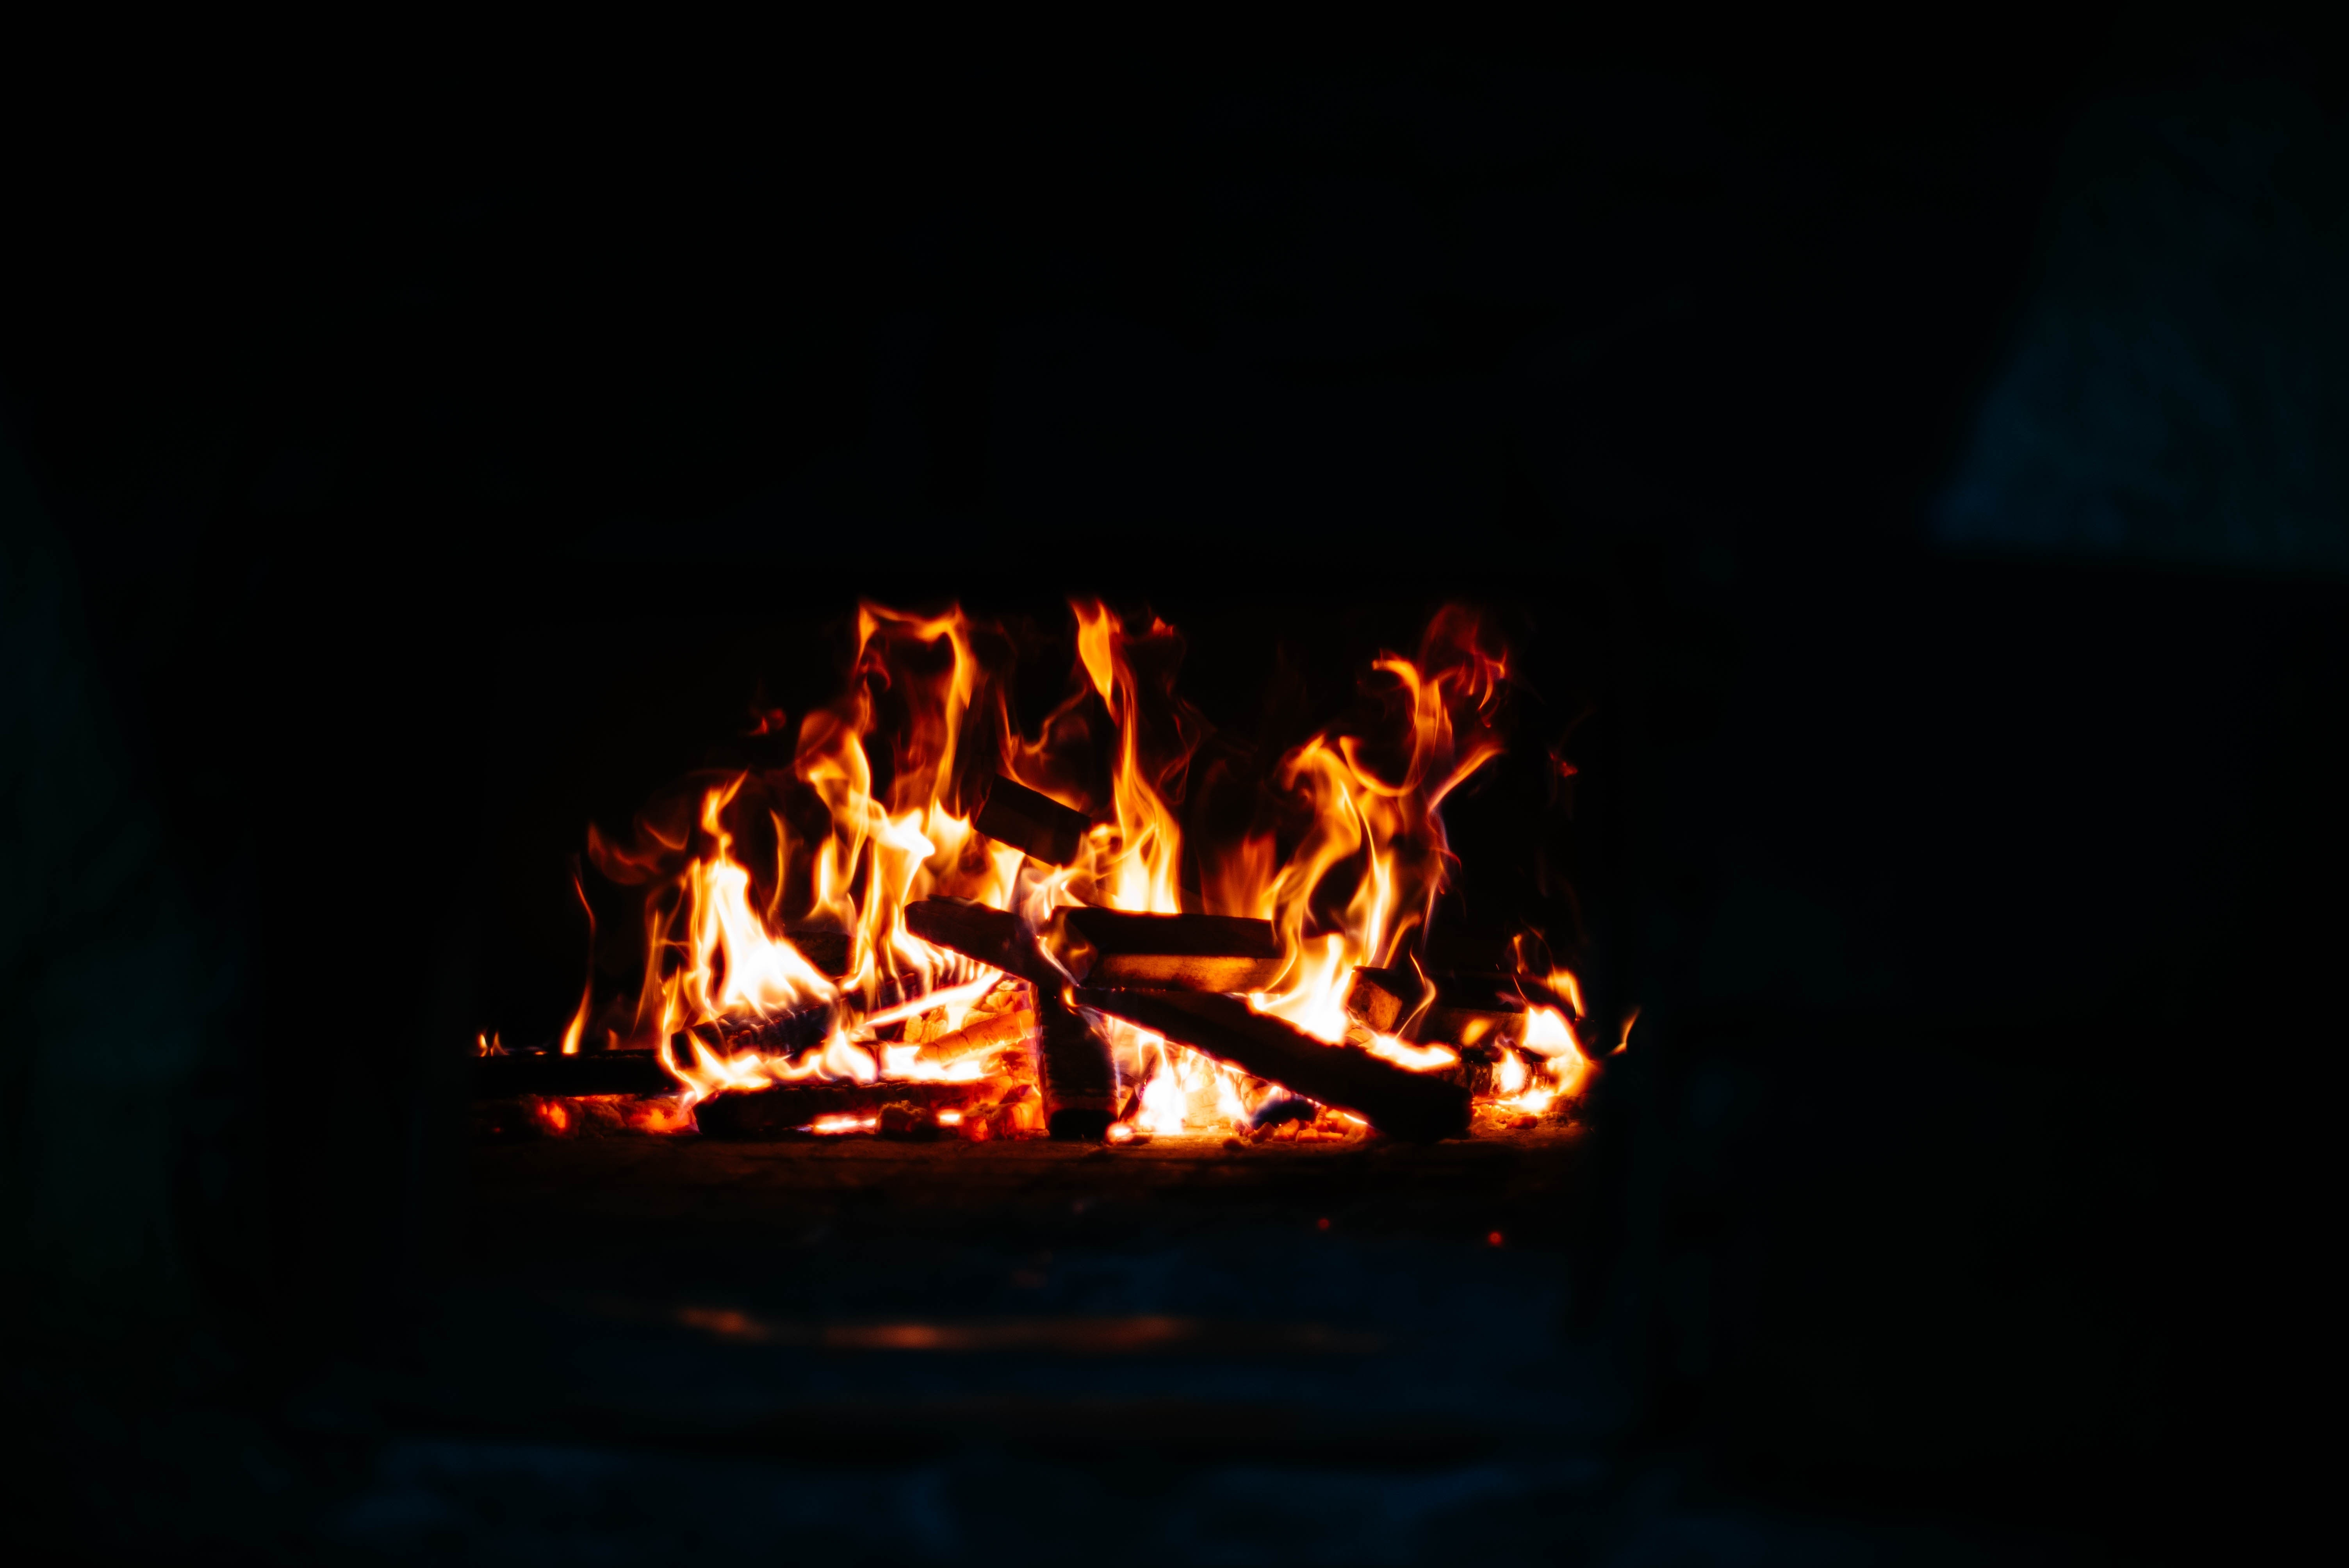fire: (502, 597, 1631, 1155)
